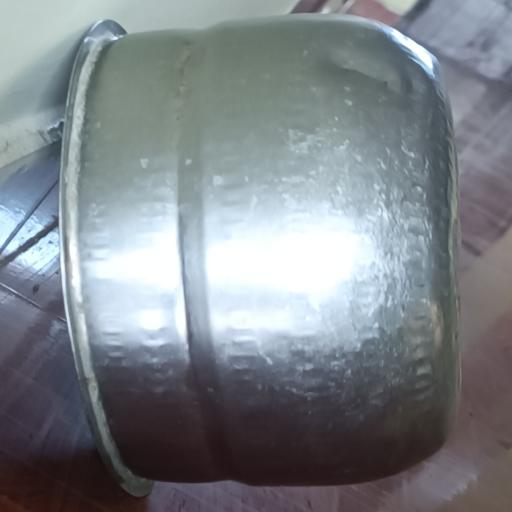vessel: (61, 16, 458, 493)
